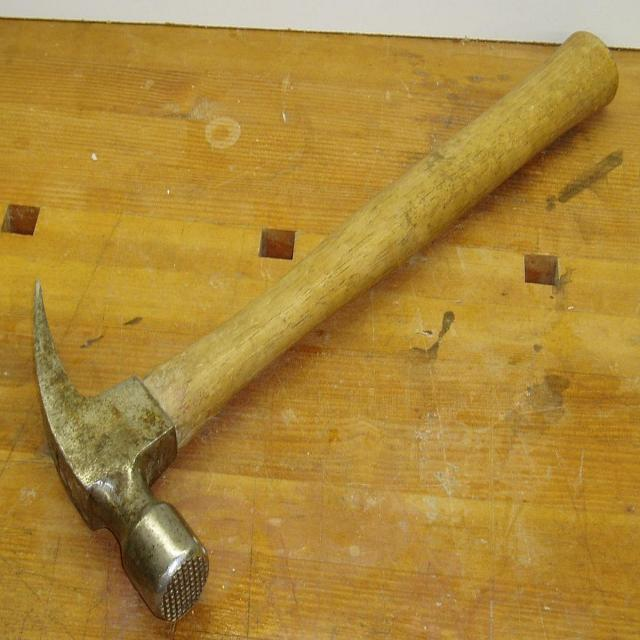hammer: (30, 19, 622, 640)
